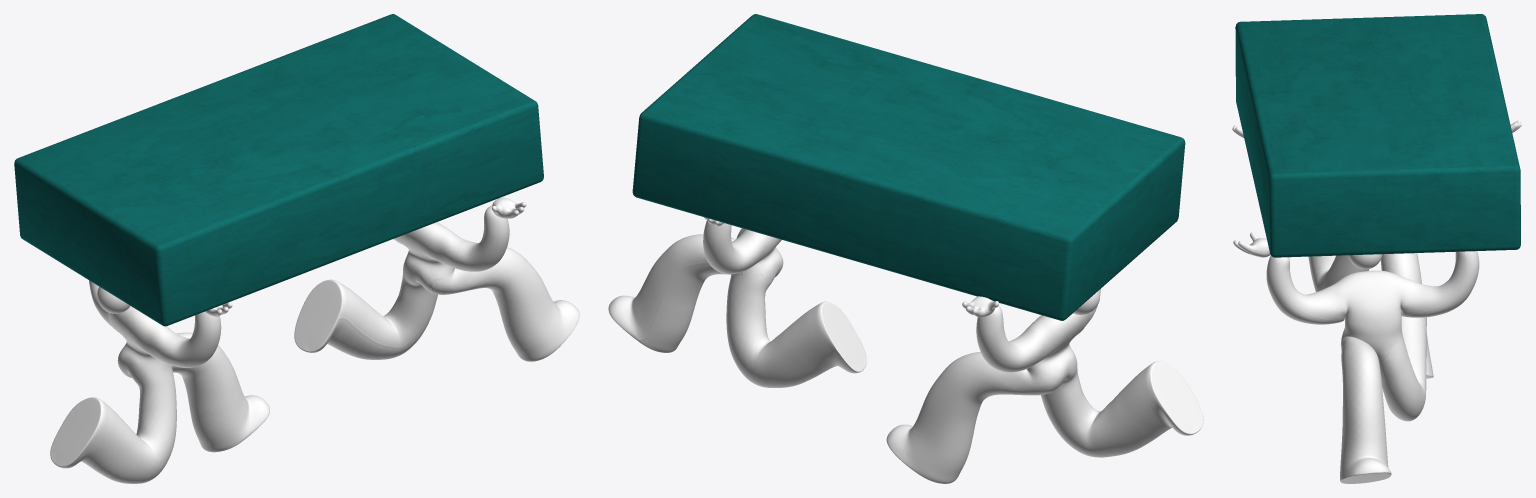
File: K1-man3.gltf
3 renders of one model, left to right at view 1: azimuth 30°, elevation 25°; view 2: azimuth 150°, elevation 25°; view 3: azimuth 270°, elevation 25°, orthographic. The views are drawn at different scales.
Visible parts, largest first — view 1: Cube_2, k1-man3-1, k1-man3-2; view 2: Cube_2, k1-man3-1, k1-man3-2; view 3: Cube_2, k1-man3-2, k1-man3-1.
Boxes of the visible parts, box(x1,y1,x2,y2) form: Cube_2: box(14, 14, 543, 326); k1-man3-1: box(50, 280, 269, 483); k1-man3-2: box(294, 197, 579, 361); Cube_2: box(632, 14, 1185, 320); k1-man3-1: box(886, 289, 1203, 483); k1-man3-2: box(608, 217, 866, 387); Cube_2: box(1235, 14, 1520, 257); k1-man3-2: box(1233, 232, 1479, 483); k1-man3-1: box(1232, 120, 1521, 378).
Size of the model in its own units: 72.23 by 42.88 by 34.19.
Materials: 2 (2 with a texture image).
